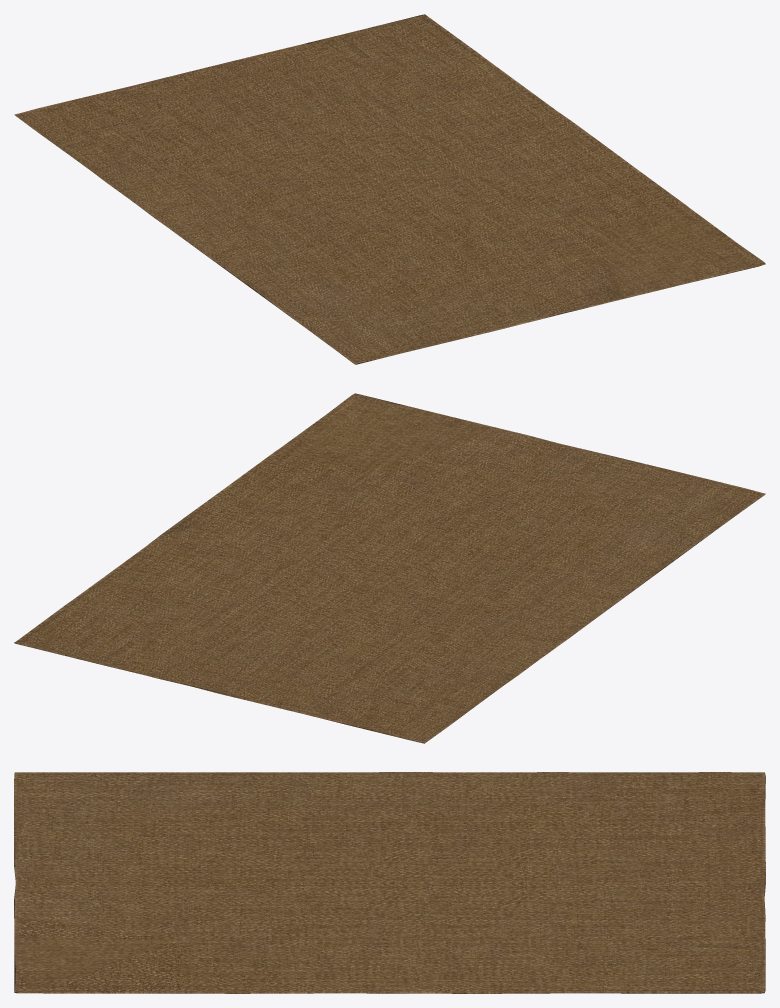
3 views of the same model, one above another, from view 1: azimuth 30°, elevation 25°; view 2: azimuth 150°, elevation 25°; view 3: azimuth 270°, elevation 25° (orthographic). The views are drawn at different scales.
Parts seen in each view (by area): view 1: lydersholm-160; view 2: lydersholm-160; view 3: lydersholm-160.
Part boxes in pixels (x1,y1,x2,y2): lydersholm-160: (14,14,765,364); lydersholm-160: (14,393,765,743); lydersholm-160: (14,772,765,993).
Size of the model in its own units: 1.6 by 0.00506 by 2.3.
Materials: 1 (1 with a texture image).
